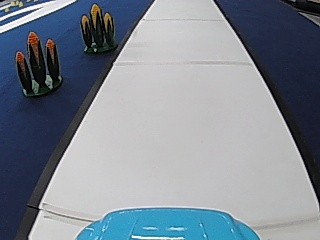corn: (15, 30, 64, 95), (78, 2, 118, 52)
